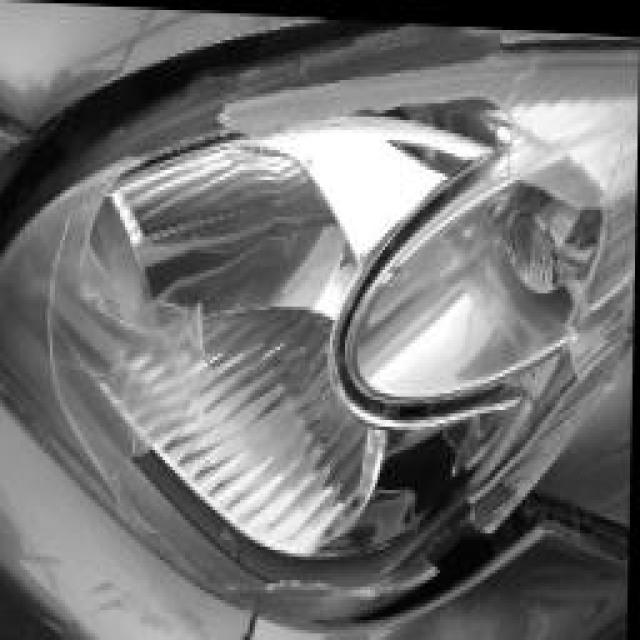Light: (92, 110, 545, 564)
